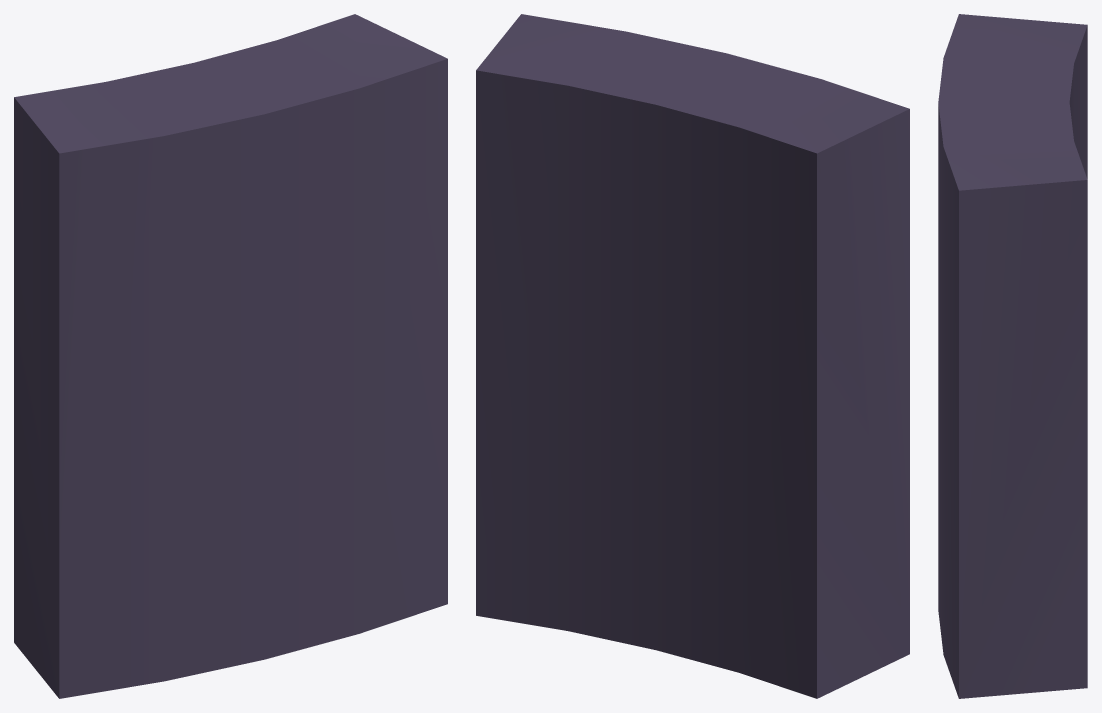
The model's file is 00_Inner_Base.fbx.
The picture shows the model from 3 angles, left to right: view 1: azimuth 30°, elevation 25°; view 2: azimuth 150°, elevation 25°; view 3: azimuth 270°, elevation 25°; orthographic projection. The views are drawn at different scales.
Visible parts, largest first — view 1: Inner_01; view 2: Inner_01; view 3: Inner_01.
Part boxes in pixels (<box>): Inner_01: <box>14,14,447,698</box>; Inner_01: <box>476,14,909,698</box>; Inner_01: <box>938,14,1087,698</box>.
Bounding box in the file's own units: 25.9 × 34.73 × 9.25.
